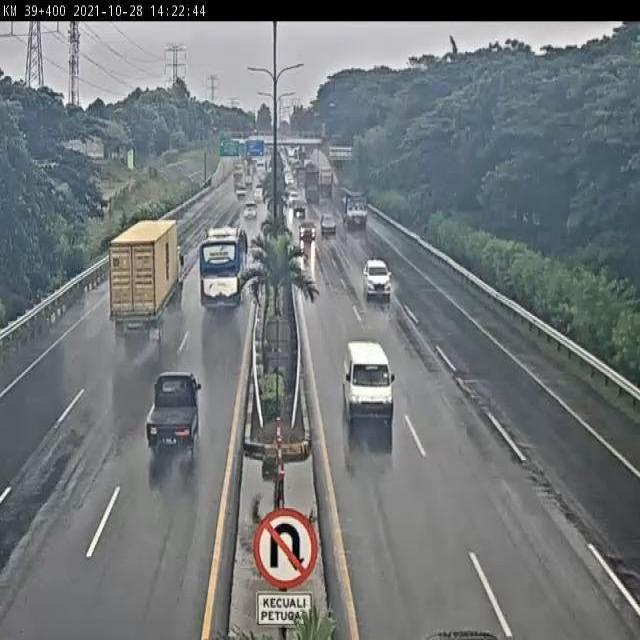big bus: (198, 228, 249, 315)
car: (341, 338, 398, 422), (145, 372, 201, 456), (362, 256, 393, 300), (319, 212, 339, 237), (297, 219, 318, 240)
truck-l-: (343, 189, 370, 228)
truck-xl-: (109, 220, 188, 339)
